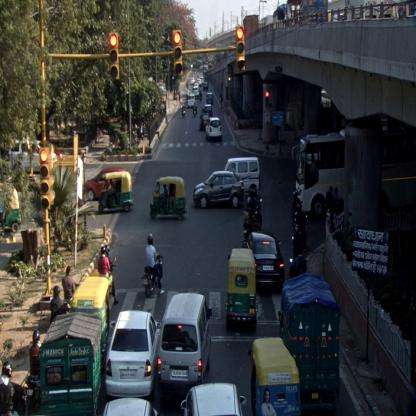bus: (289, 132, 344, 217)
car: (156, 294, 212, 388), (104, 308, 162, 398), (243, 230, 287, 294), (178, 383, 245, 415), (192, 171, 245, 209), (224, 158, 260, 194), (84, 169, 125, 197), (205, 117, 222, 142), (199, 112, 211, 132), (186, 94, 196, 109), (206, 92, 213, 106)
motorcycle: (99, 244, 121, 307), (27, 331, 43, 415), (144, 235, 162, 295), (246, 190, 262, 227), (291, 189, 304, 229), (193, 103, 197, 118), (182, 102, 185, 118)
truck: (279, 275, 342, 406), (41, 314, 100, 415)
